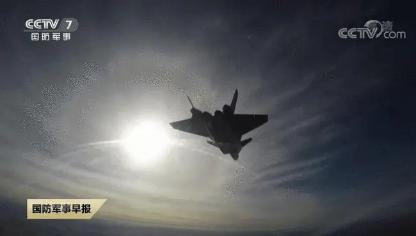F4: (169, 87, 268, 159)
